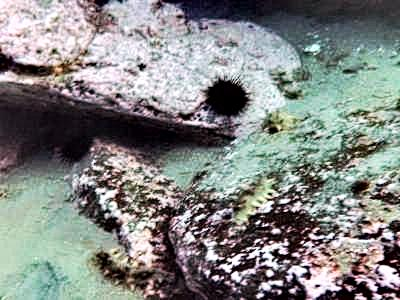urchin: (200, 73, 249, 116), (55, 123, 90, 162)
